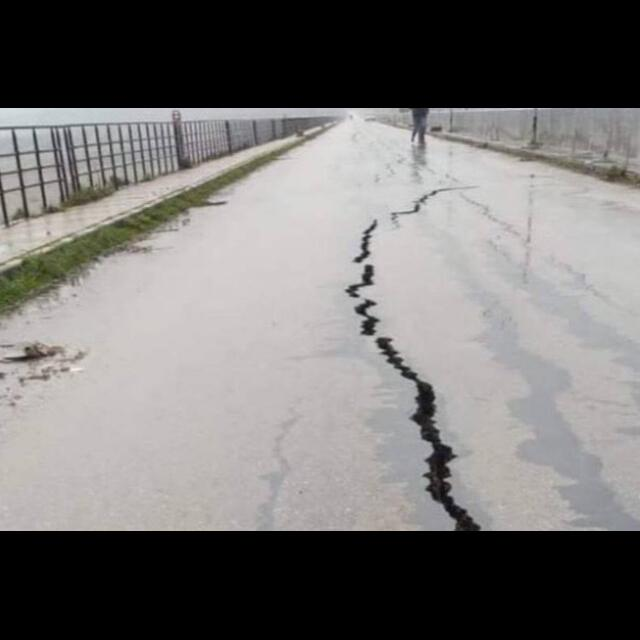retak_memanjang: (311, 208, 492, 532), (375, 174, 476, 228)
